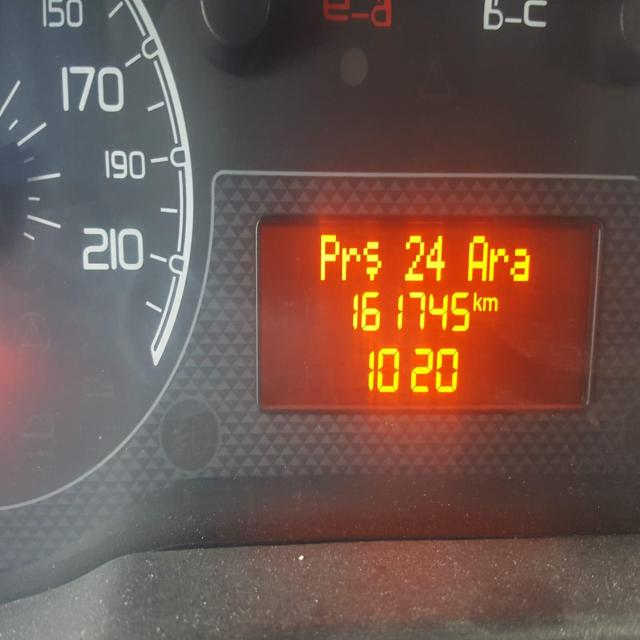odometer: (250, 209, 608, 417)
